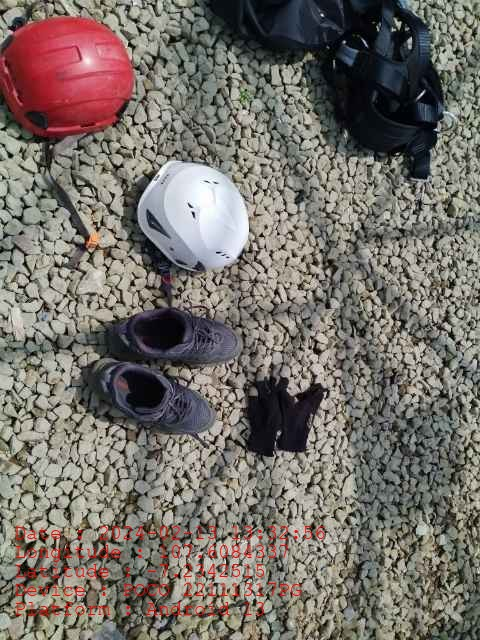HELM: (1, 13, 133, 138), (136, 160, 248, 273)
SEPATU: (89, 307, 237, 431)
